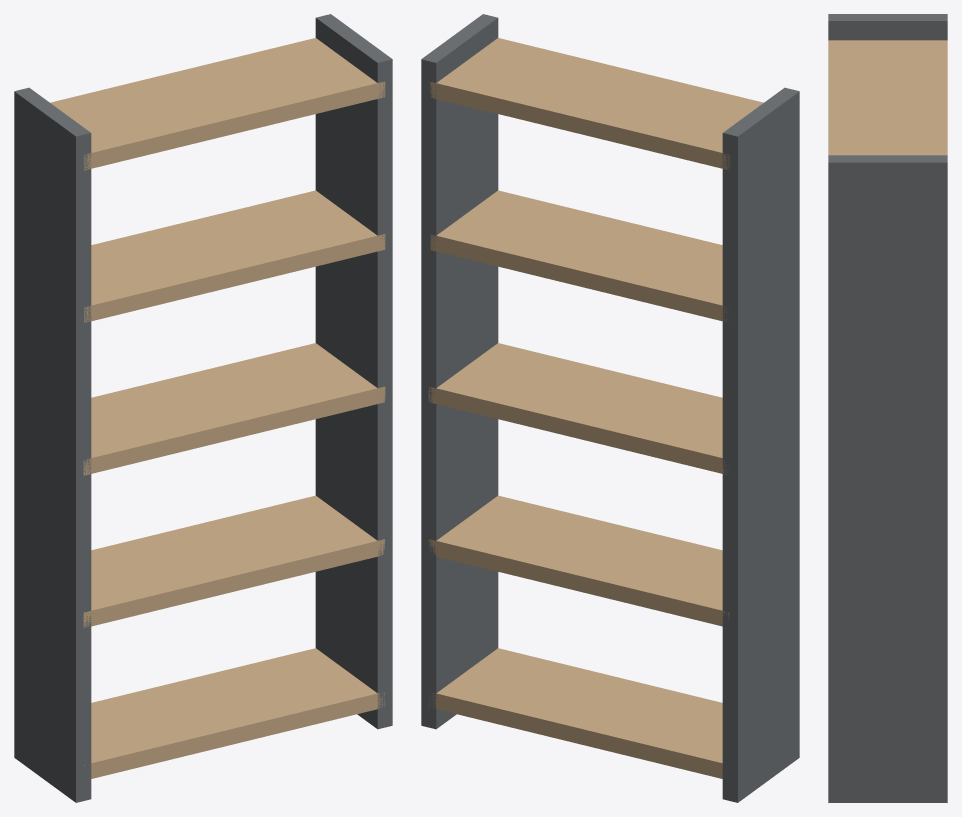
Rendered from shelf_02.glb.
The picture shows the model from 3 angles, left to right: view 1: azimuth 30°, elevation 25°; view 2: azimuth 150°, elevation 25°; view 3: azimuth 270°, elevation 25°; orthographic projection. The views are drawn at different scales.
Visible parts, largest first — view 1: side-0.45, side0.45, shelf4, shelf2, shelf3, shelf1, shelf0; view 2: side-0.45, side0.45, shelf4, shelf2, shelf3, shelf1, shelf0; view 3: side0.45, shelf4, side-0.45.
Part boxes in pixels (bbox=[...]): side-0.45: bbox=[14, 87, 91, 802]; side0.45: bbox=[315, 14, 392, 729]; shelf4: bbox=[50, 38, 385, 170]; shelf2: bbox=[83, 343, 385, 475]; shelf3: bbox=[84, 190, 385, 322]; shelf1: bbox=[83, 495, 384, 628]; shelf0: bbox=[84, 648, 385, 778]; side-0.45: bbox=[722, 87, 799, 802]; side0.45: bbox=[421, 14, 498, 729]; shelf4: bbox=[430, 38, 763, 170]; shelf2: bbox=[428, 343, 728, 474]; shelf3: bbox=[428, 190, 728, 321]; shelf1: bbox=[428, 495, 729, 626]; shelf0: bbox=[428, 648, 722, 778]; side0.45: bbox=[828, 155, 947, 802]; shelf4: bbox=[828, 40, 947, 155]; side-0.45: bbox=[828, 14, 947, 40].
Bounding box in the file's own units: 0.945 × 1.9 × 0.32.
